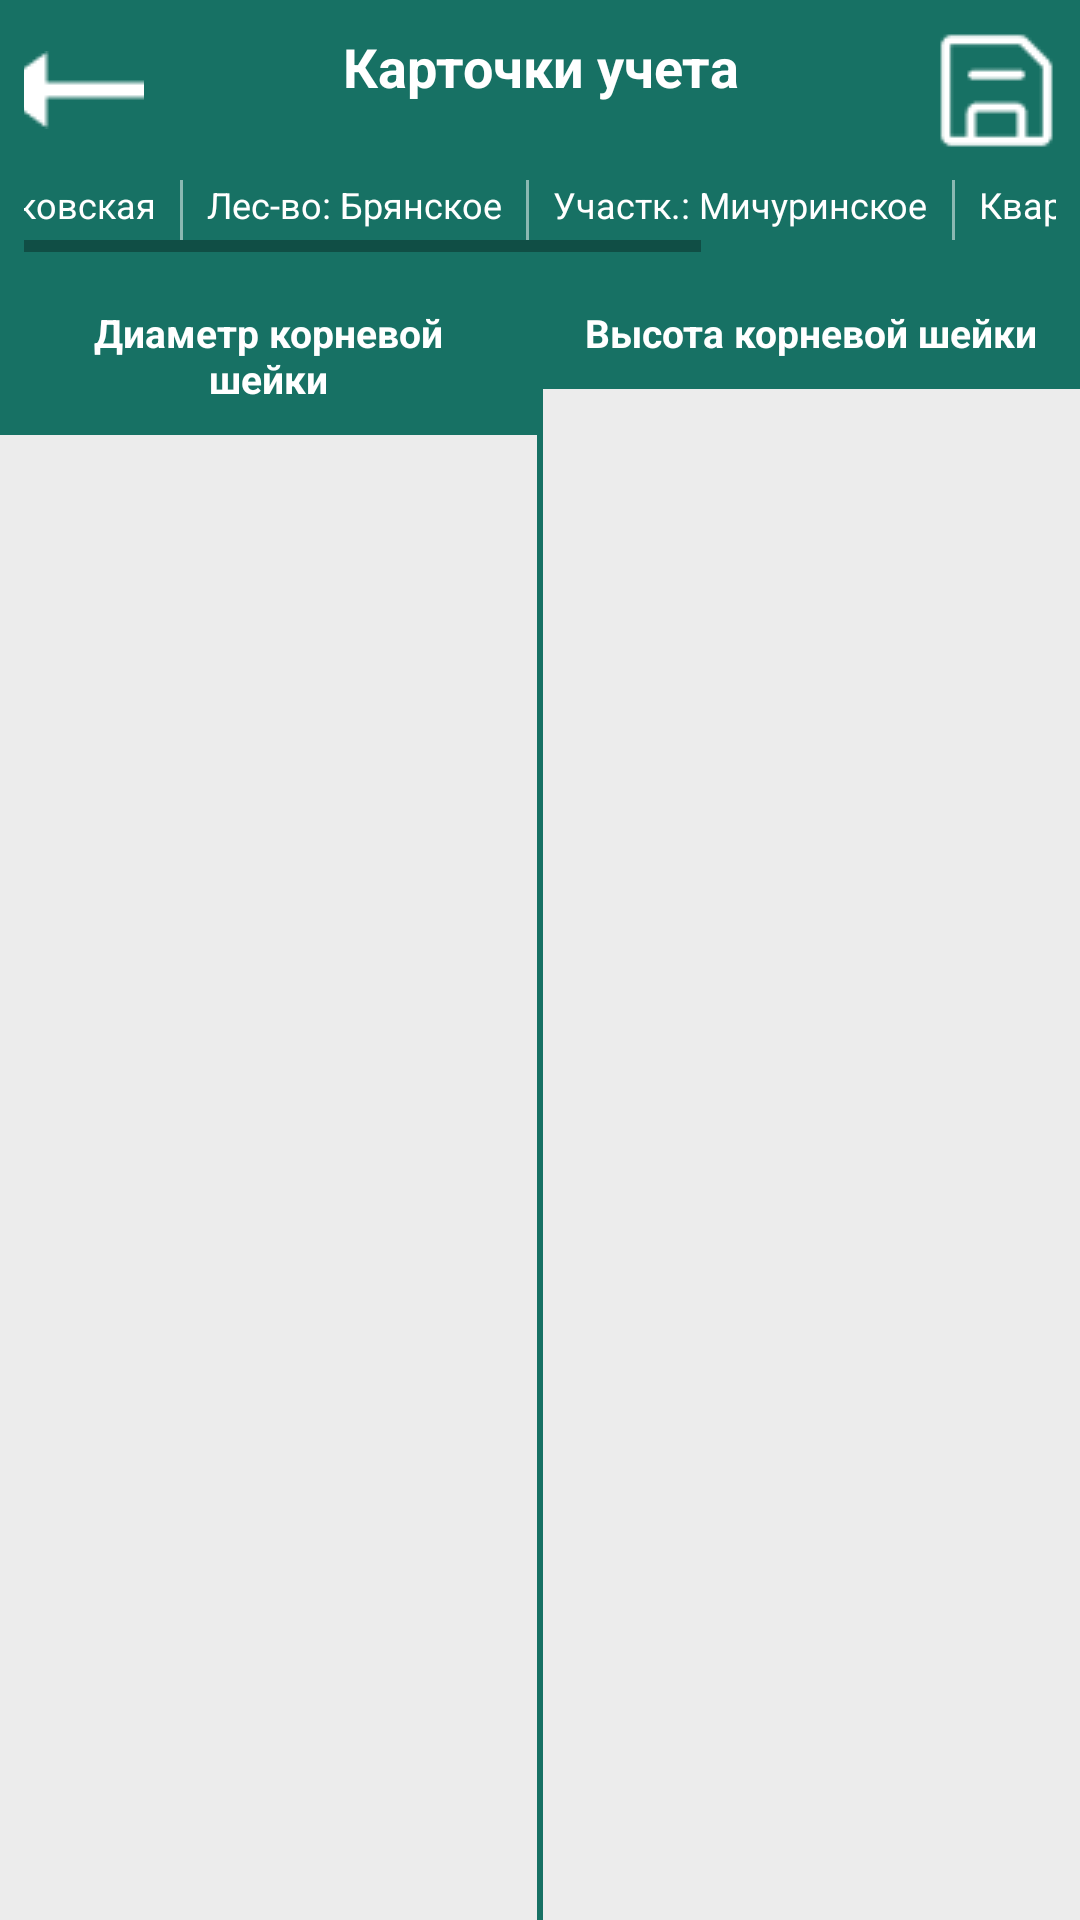

Icons on this 1080px x 1920px Android screen, each with its box as (x1, y1, x2, y2):
Назад: (24, 51, 144, 129)
Сохранить: (940, 34, 1053, 147)
